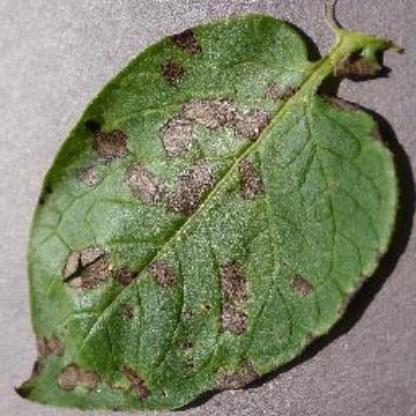Early-Blight: (21, 5, 402, 415)
